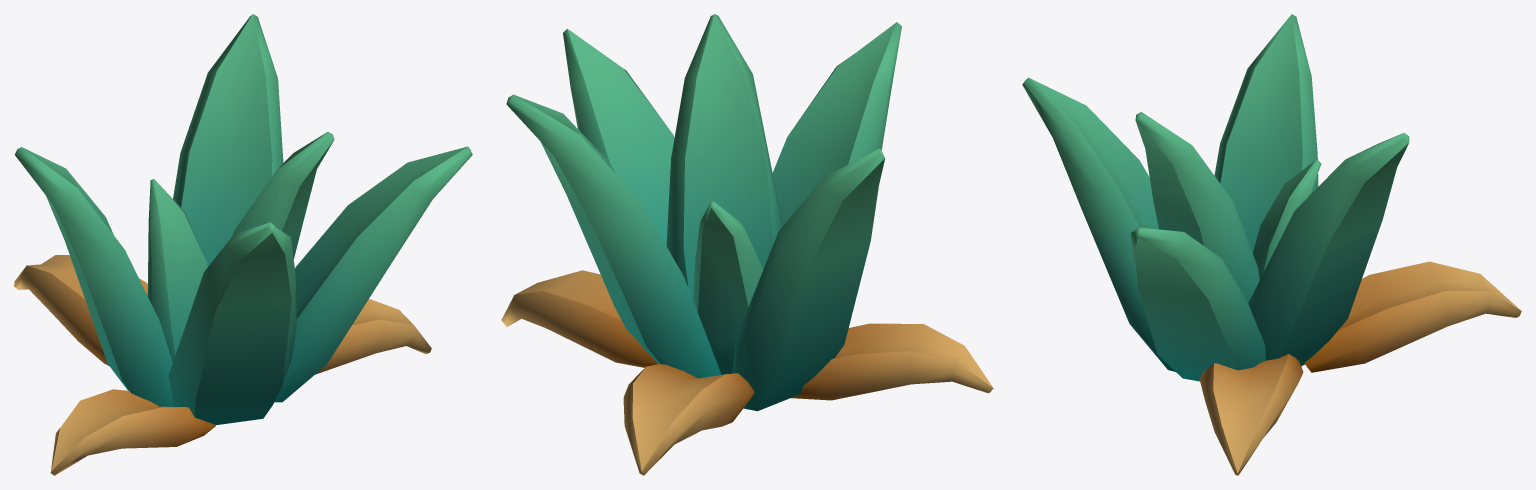
3 renders of one model, left to right at view 1: azimuth 30°, elevation 25°; view 2: azimuth 150°, elevation 25°; view 3: azimuth 270°, elevation 25°, orthographic. The views are drawn at different scales.
Parts seen in each view (by area): view 1: LOD 1_14127737254430187619_3e1162219392c0d418059c435572ff39; view 2: LOD 1_14127737254430187619_3e1162219392c0d418059c435572ff39; view 3: LOD 1_14127737254430187619_3e1162219392c0d418059c435572ff39.
Boxes of the visible parts, x1,y1,x2,y2 form: LOD 1_14127737254430187619_3e1162219392c0d418059c435572ff39: (14,14,472,475); LOD 1_14127737254430187619_3e1162219392c0d418059c435572ff39: (501,14,993,475); LOD 1_14127737254430187619_3e1162219392c0d418059c435572ff39: (1022,14,1521,475).
Size of the model in its own units: 0.9316 by 0.6423 by 0.9602.
